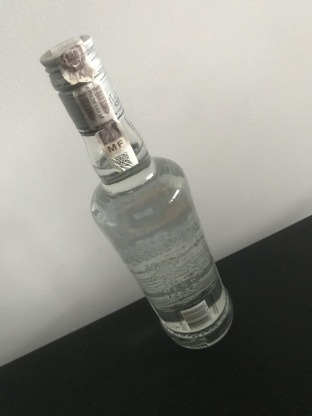nakretka: (37, 32, 125, 137)
